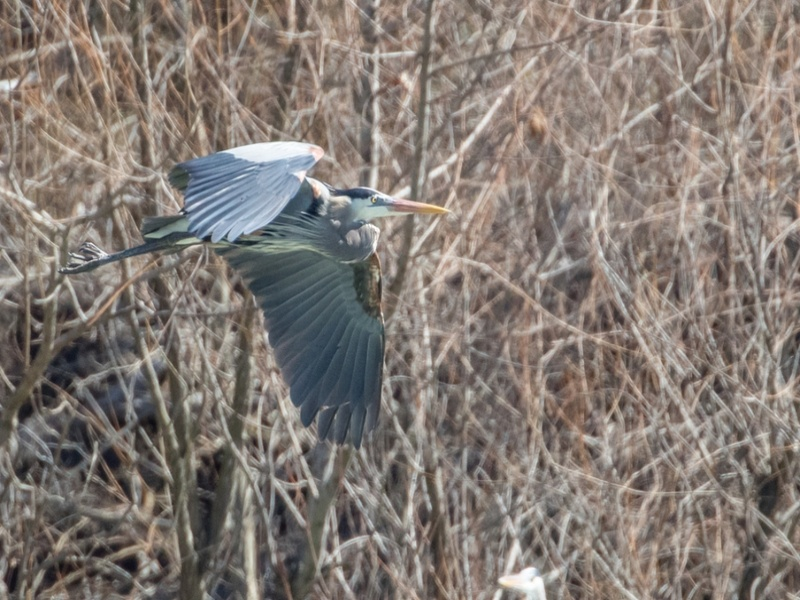heron: (50, 137, 454, 447)
